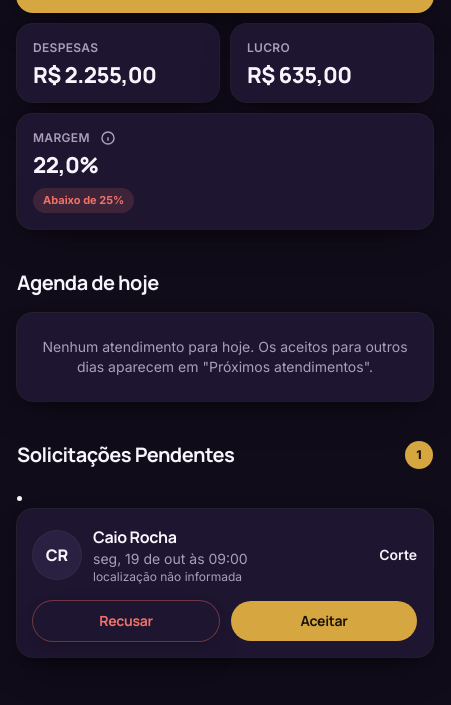
Test case: DashboardView › an accepted request for another day goes to "Próximos atendimentos"
(page scrolled)
Click the button "Aceitar" at (324, 621), box x1=231 y1=601 x2=417 y2=641
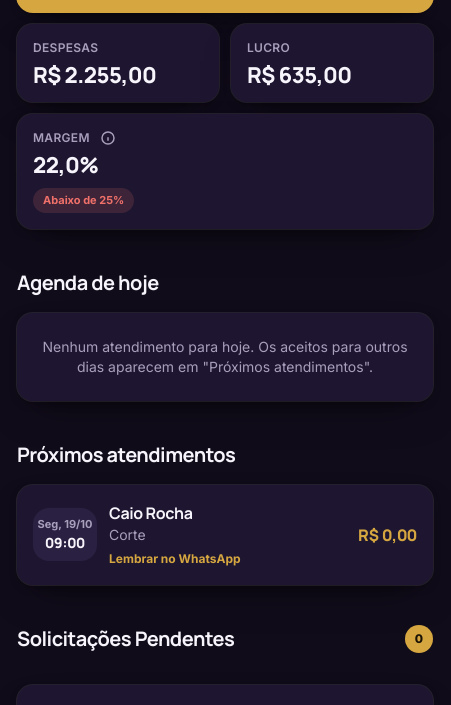
Expected: the heading "Caio Rocha" is shown, x1=109 y1=502 x2=192 y2=524
Result: the text "Seg, 19/10" is shown at x1=38 y1=516 x2=92 y2=533
